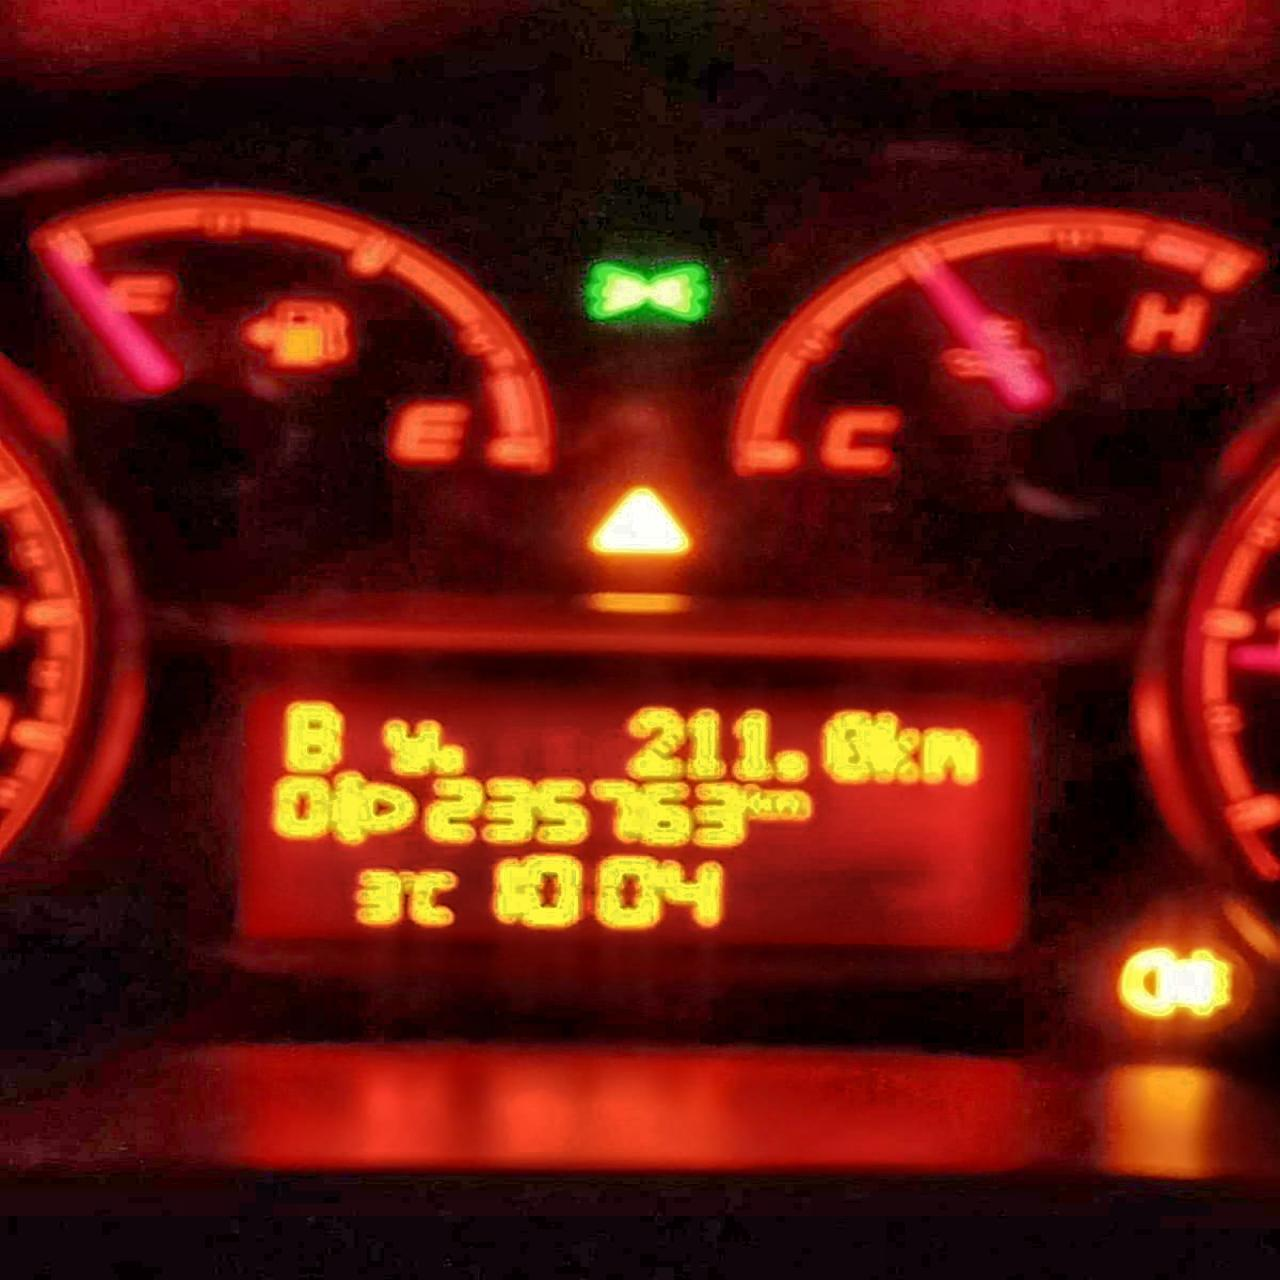-: (772, 747, 812, 783), (431, 742, 469, 776)
0: (593, 853, 662, 933), (518, 851, 585, 928), (268, 771, 334, 843), (819, 708, 874, 787)
1: (686, 704, 729, 781), (730, 708, 775, 782), (490, 855, 520, 925)
2: (622, 704, 688, 779), (422, 775, 483, 845)
3: (692, 778, 749, 851), (482, 775, 536, 846), (349, 867, 402, 928)
4: (660, 858, 728, 930)
5: (533, 777, 592, 847)
6: (635, 779, 693, 849)
7: (587, 777, 641, 844)
X: (280, 697, 347, 774), (377, 716, 442, 778), (920, 727, 985, 787), (871, 708, 920, 785), (407, 869, 458, 930), (774, 785, 815, 823), (750, 782, 772, 821)
odometer: (230, 680, 1036, 958)
